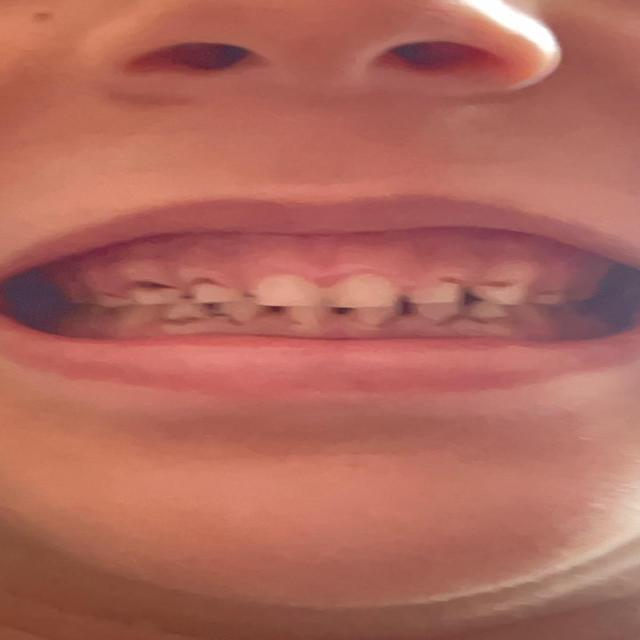tooth: (321, 276, 394, 308), (250, 279, 306, 303), (414, 280, 452, 304), (128, 282, 164, 304), (191, 283, 230, 303), (420, 305, 456, 325), (470, 304, 510, 322), (480, 286, 515, 304), (228, 305, 262, 323), (171, 302, 201, 322), (294, 306, 326, 322), (363, 308, 392, 324), (534, 293, 566, 306)
